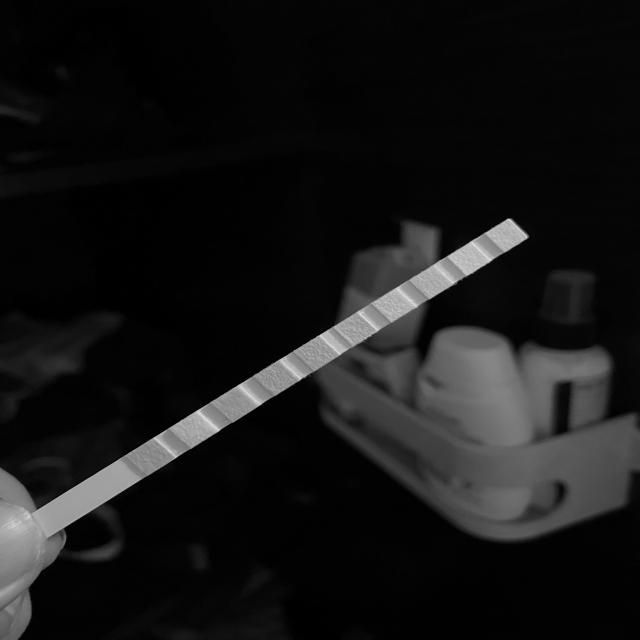Bilirubin: (182, 420, 206, 440)
Blood: (306, 344, 329, 363)
Glucose: (140, 446, 166, 466)
Ketone: (224, 394, 248, 414)
Leukocytes: (497, 227, 518, 244)
Nitrite: (460, 249, 480, 267)
Protein: (384, 296, 406, 314)
SpGravity: (267, 369, 289, 387)
Urobilinogen: (421, 272, 443, 291)
background: (0, 0, 640, 640)
pH: (344, 319, 368, 338)
strip: (38, 219, 529, 530)
